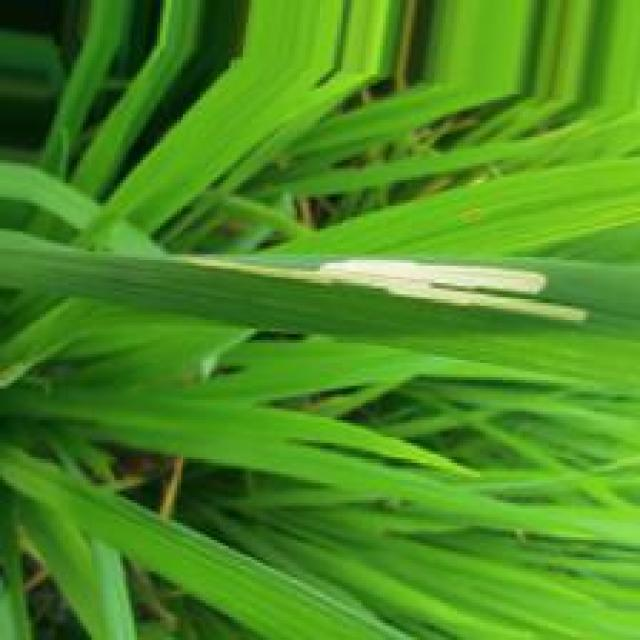Rice_Hispa: (182, 255, 595, 323)
